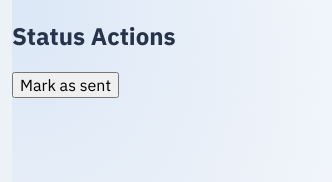
Scenario: QuoteStatusActions › shows an error when transition update fails
Click the button "Mark as sent".
click(66, 85)  # box [12, 72, 119, 98]
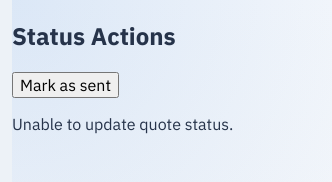
Result: the message reads "Unable to update quote status." at [12, 114, 233, 134]
